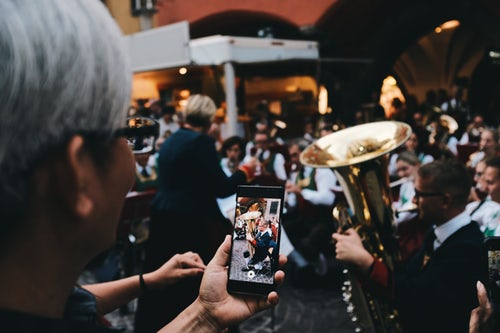phone: (231, 183, 282, 295)
